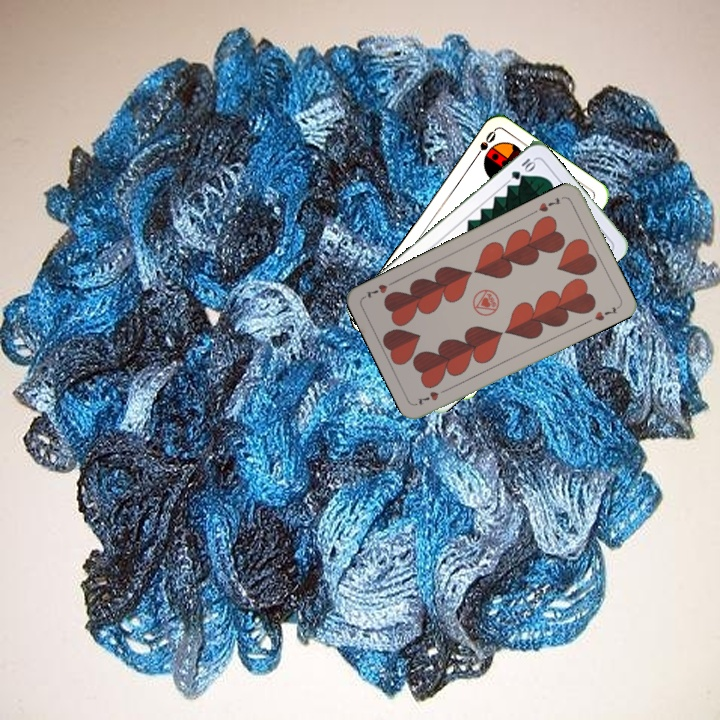G10: (507, 154, 538, 182)
H7: (413, 384, 451, 408), (529, 193, 563, 217)
SO: (470, 127, 498, 163)
